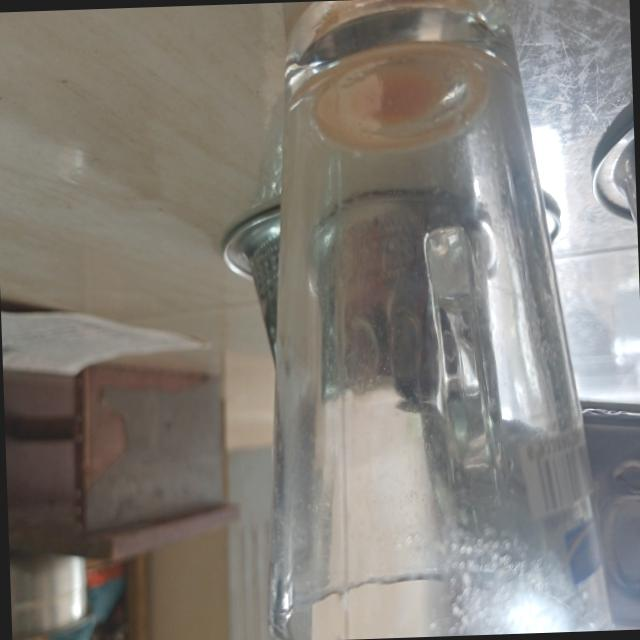glass-VX4N: (248, 8, 594, 640)
